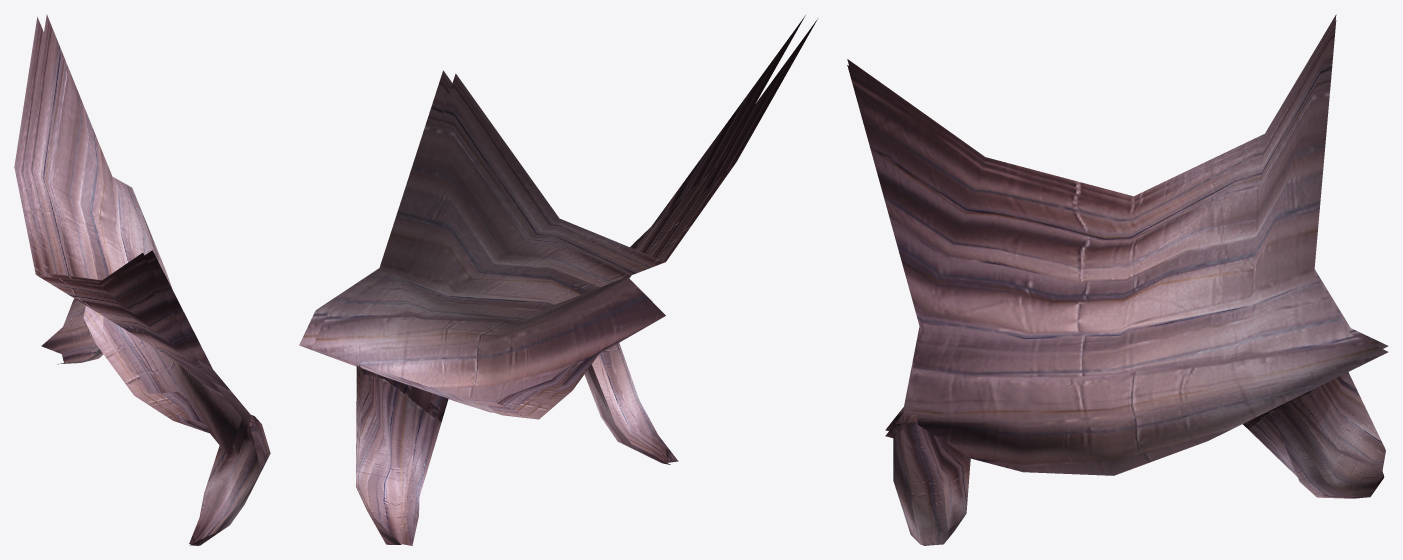
The model's file is M_Home_Garden_Curtain_07.fbx.
The picture shows the model from 3 angles, left to right: view 1: azimuth 30°, elevation 25°; view 2: azimuth 150°, elevation 25°; view 3: azimuth 270°, elevation 25°; orthographic projection. The views are drawn at different scales.
Parts seen in each view (by area): view 1: M_Home_Garden_Curtain_07; view 2: M_Home_Garden_Curtain_07; view 3: M_Home_Garden_Curtain_07.
Part boxes in pixels (bbox=[...]): M_Home_Garden_Curtain_07: bbox=[14, 14, 270, 545]; M_Home_Garden_Curtain_07: bbox=[299, 15, 817, 545]; M_Home_Garden_Curtain_07: bbox=[847, 14, 1388, 545].
Bounding box in the file's own units: 154 × 329 × 304.
